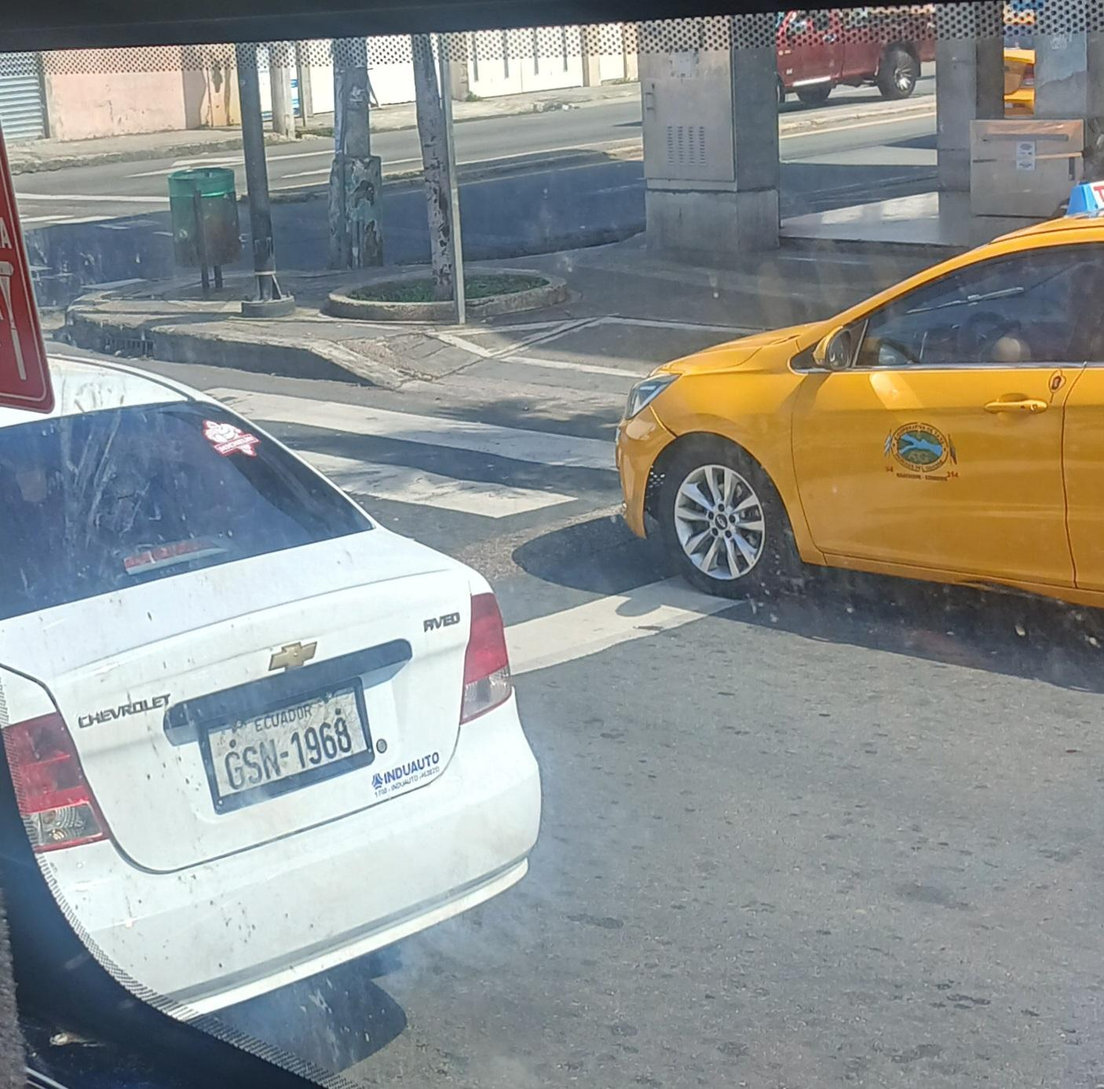license_plate: (200, 680, 372, 807)
